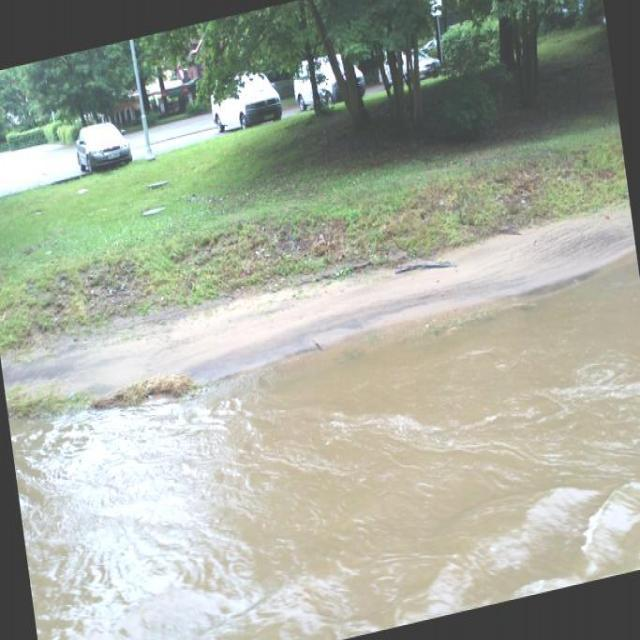flood: (8, 266, 639, 639)
